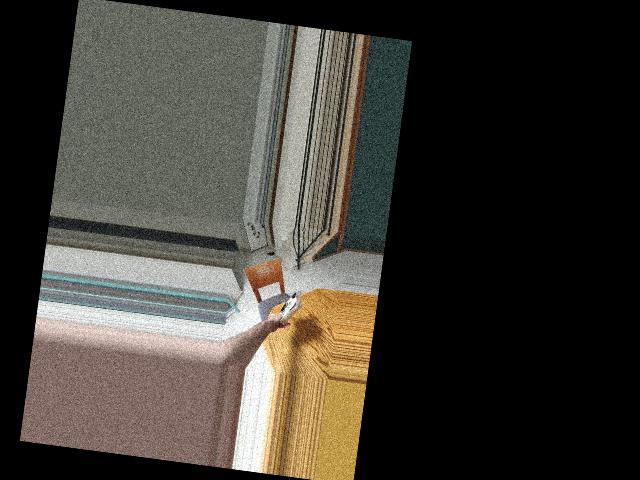cheese: (275, 290, 304, 327)
